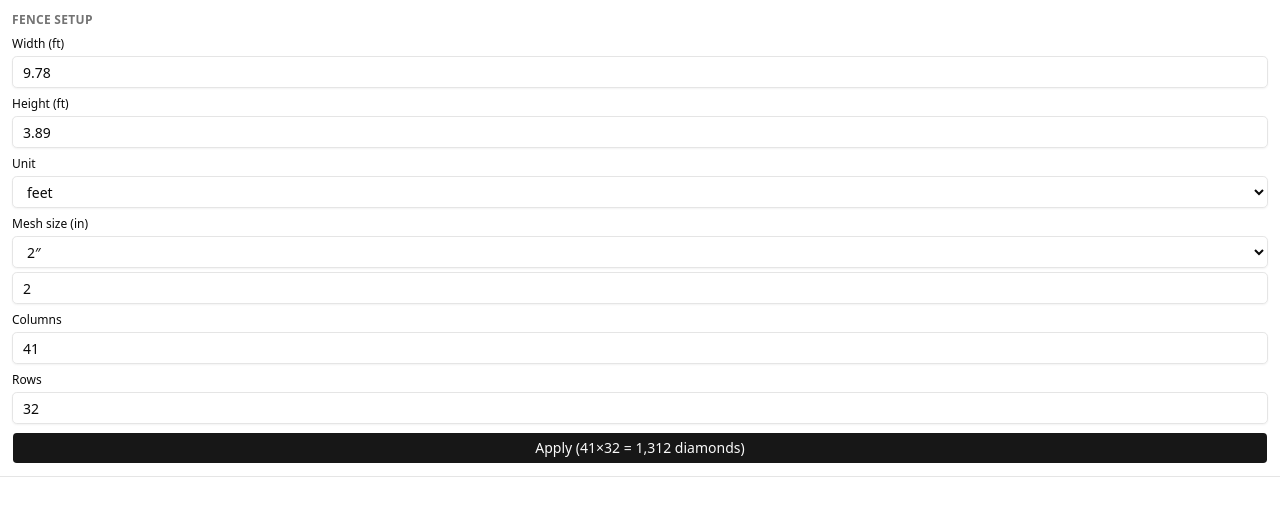
Test: over-cap grids disable apply and explain why
The width and height of the screenshot is (1280, 522).
Replace the text in the number field labelled "Columns" with "1000" at (640, 348), box [12,332,1268,364]
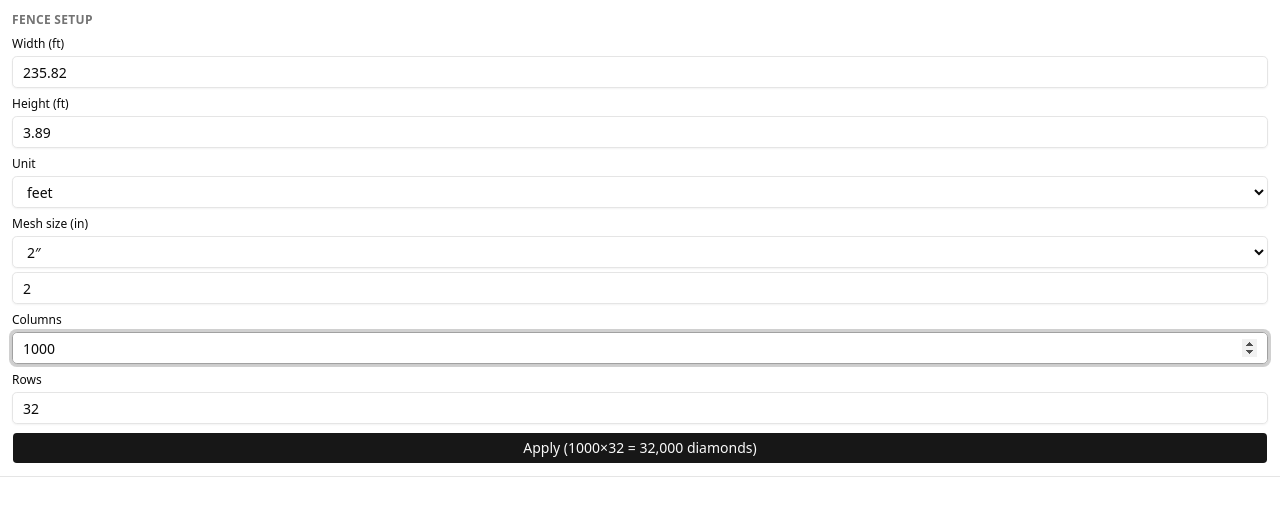
Replace the text in the number field labelled "Rows" with "1000" at (640, 408), box [12,392,1268,424]
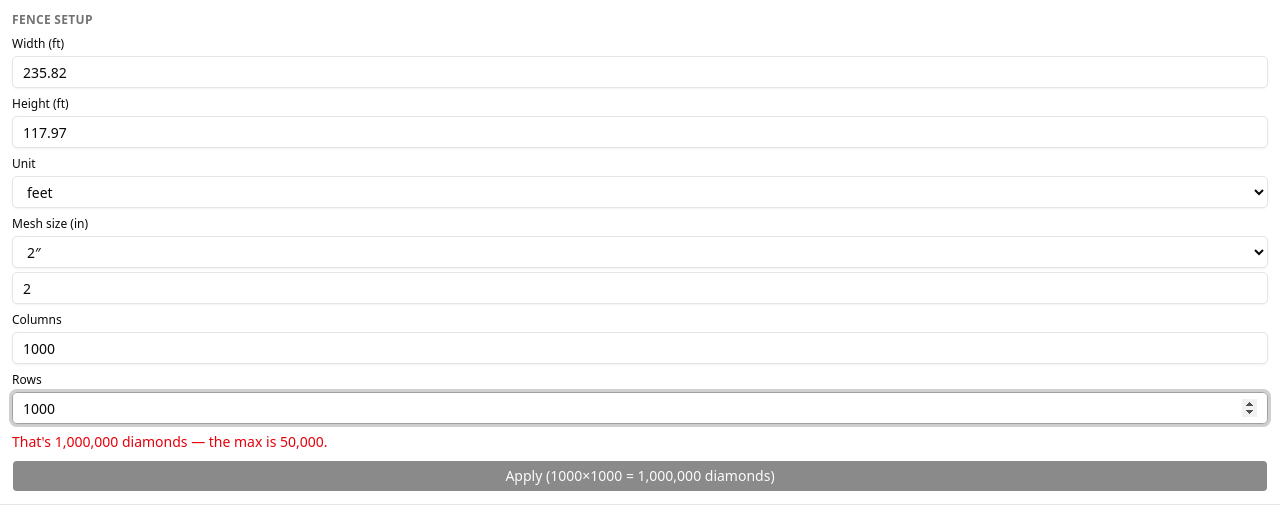
Result: the button "Apply (1000×1000 = 1,000,000 diamonds)" is disabled at [12,460,1268,492]
Result: the text "That's 1,000,000 diamonds — the max is 50,000." is shown at [12,432,328,451]
